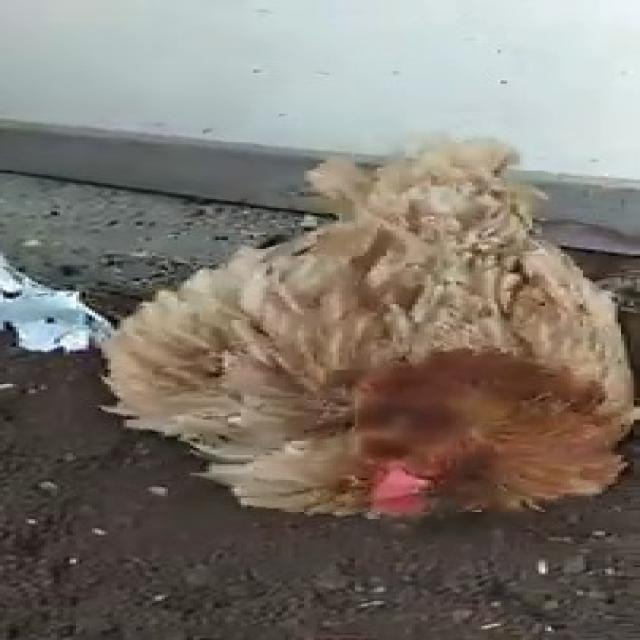stand bath: (98, 148, 640, 526)
